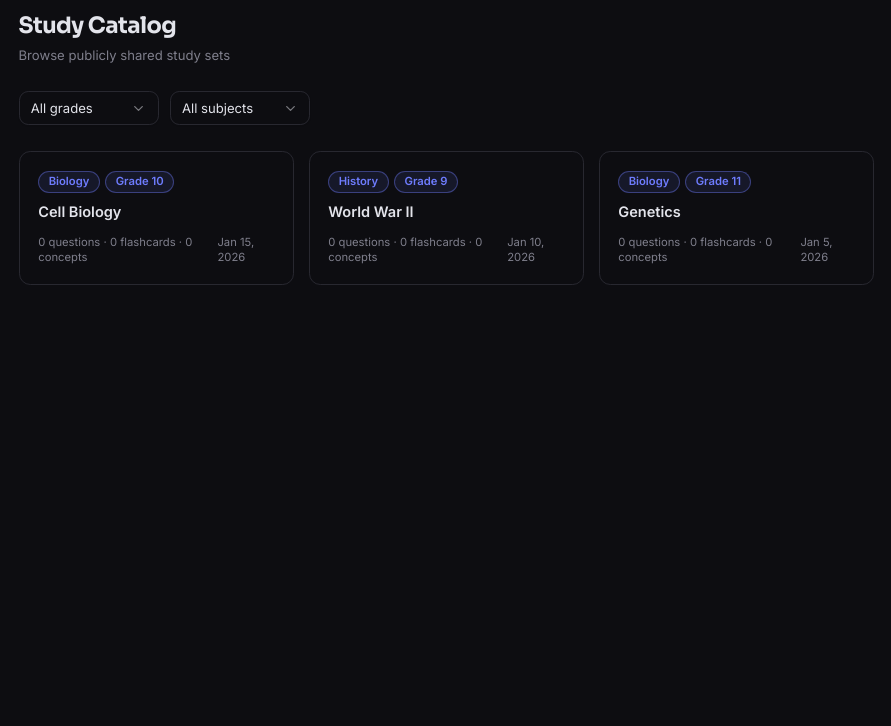
Scenario: CatalogPage — filtering › combines grade and discipline filters
Click the dropdown named "filter by subject": (240, 108) [170, 91, 310, 125]
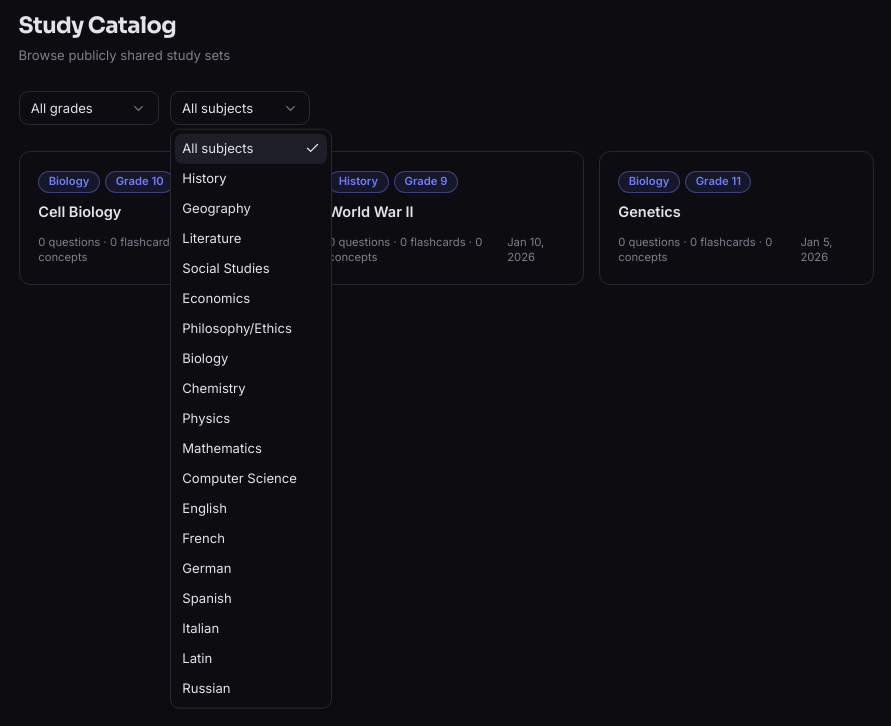
Click the option "Biology": (205, 358) [182, 350, 228, 366]
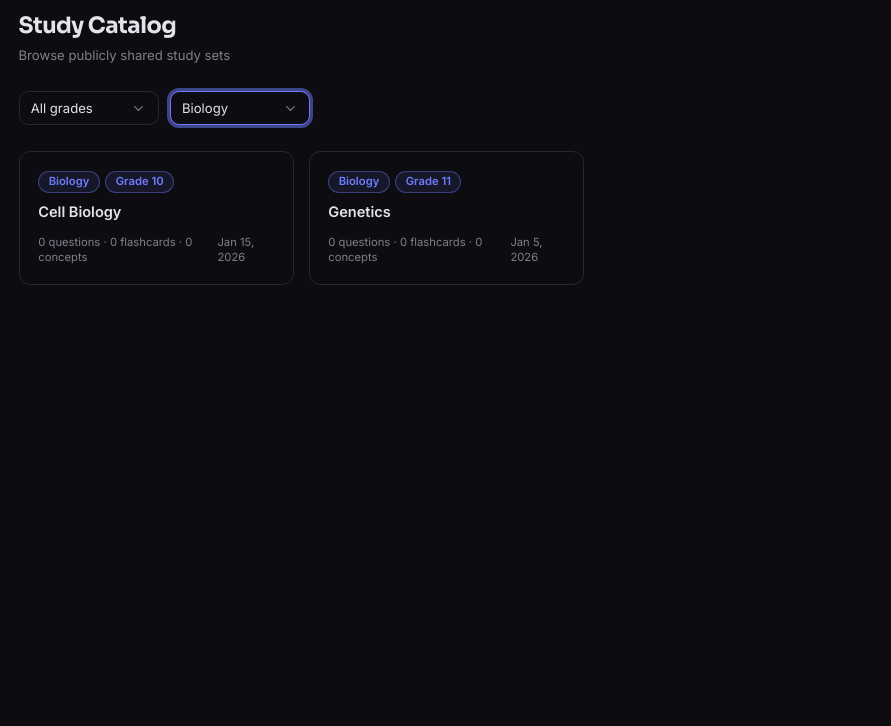
Click the dropdown named "filter by grade": (88, 108) [18, 91, 158, 125]
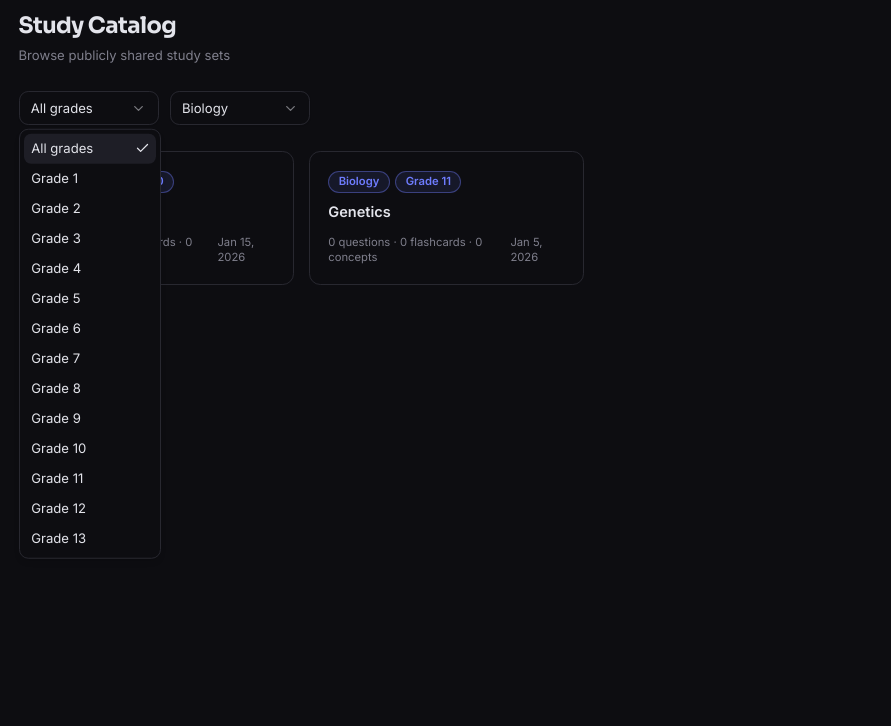
Click the option "Grade 10": (59, 448) [31, 440, 86, 456]
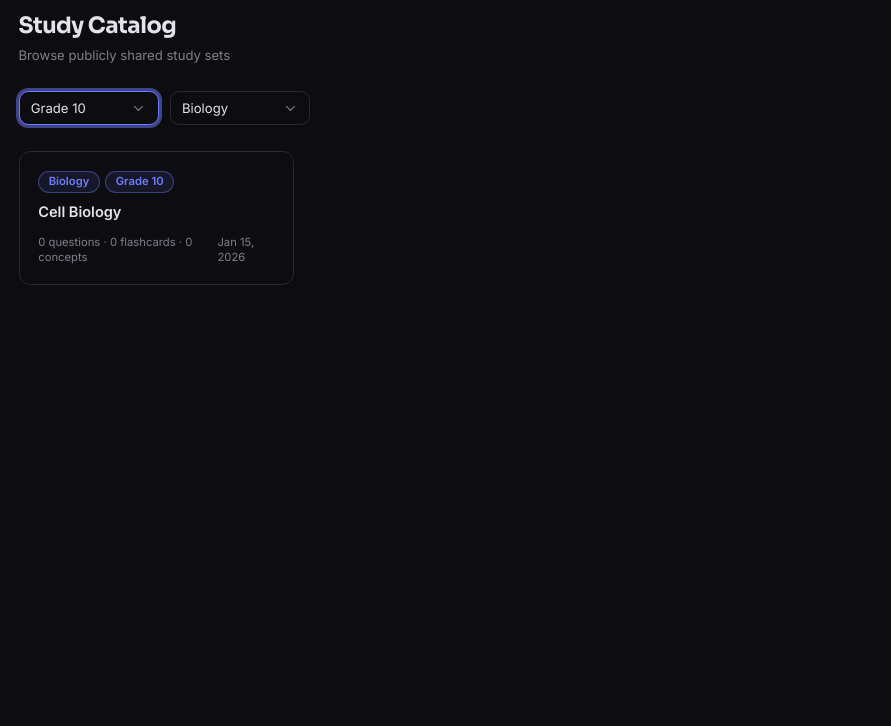
Expected: the heading "Cell Biology" is shown, [38, 203, 122, 221]
Result: the link "Genetics" is gone
